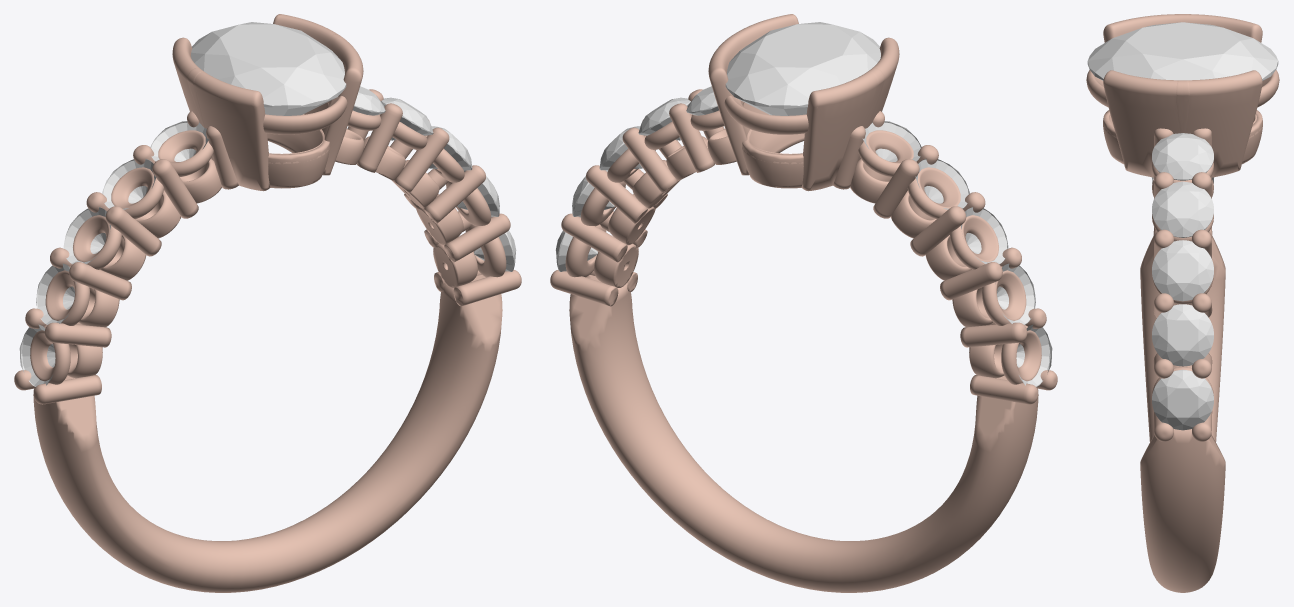
Rendered from diamond-oval-rosegold-halfmoonbezel-taperedband-11stone.glb.
3 views of the same model, side by side, from view 1: azimuth 30°, elevation 25°; view 2: azimuth 150°, elevation 25°; view 3: azimuth 270°, elevation 25° (orthographic).
Parts seen in each view (by area): view 1: metal, stone.003, side.033, side.032, side.031, side.034, side.030, side.038; view 2: metal, stone.003, side.033, side.032, side.031, side.034, side.030, side.038; view 3: metal, stone.003, side.036, side.037, side.035, side.038, side.039.
Part boxes in pixels (left/top/right/bottom): metal: left=14, top=14, right=521, bottom=592; stone.003: left=191, top=22, right=346, bottom=115; side.033: left=102, top=158, right=156, bottom=209; side.032: left=63, top=207, right=110, bottom=264; side.031: left=36, top=263, right=76, bottom=324; side.034: left=150, top=121, right=209, bottom=161; side.030: left=19, top=324, right=55, bottom=386; side.038: left=381, top=97, right=433, bottom=140; metal: left=550, top=14, right=1057, bottom=592; stone.003: left=725, top=22, right=880, bottom=115; side.033: left=915, top=158, right=969, bottom=209; side.032: left=961, top=207, right=1008, bottom=264; side.031: left=995, top=263, right=1035, bottom=324; side.034: left=862, top=121, right=921, bottom=161; side.030: left=1016, top=324, right=1052, bottom=386; side.038: left=638, top=97, right=690, bottom=140; metal: left=1086, top=14, right=1279, bottom=592; stone.003: left=1087, top=22, right=1278, bottom=80; side.036: left=1152, top=304, right=1213, bottom=366; side.037: left=1152, top=240, right=1213, bottom=301; side.035: left=1152, top=369, right=1213, bottom=430; side.038: left=1152, top=181, right=1213, bottom=237; side.039: left=1152, top=133, right=1213, bottom=180.
Size of the model in its own units: 22.01 by 23.4 by 7.75.
